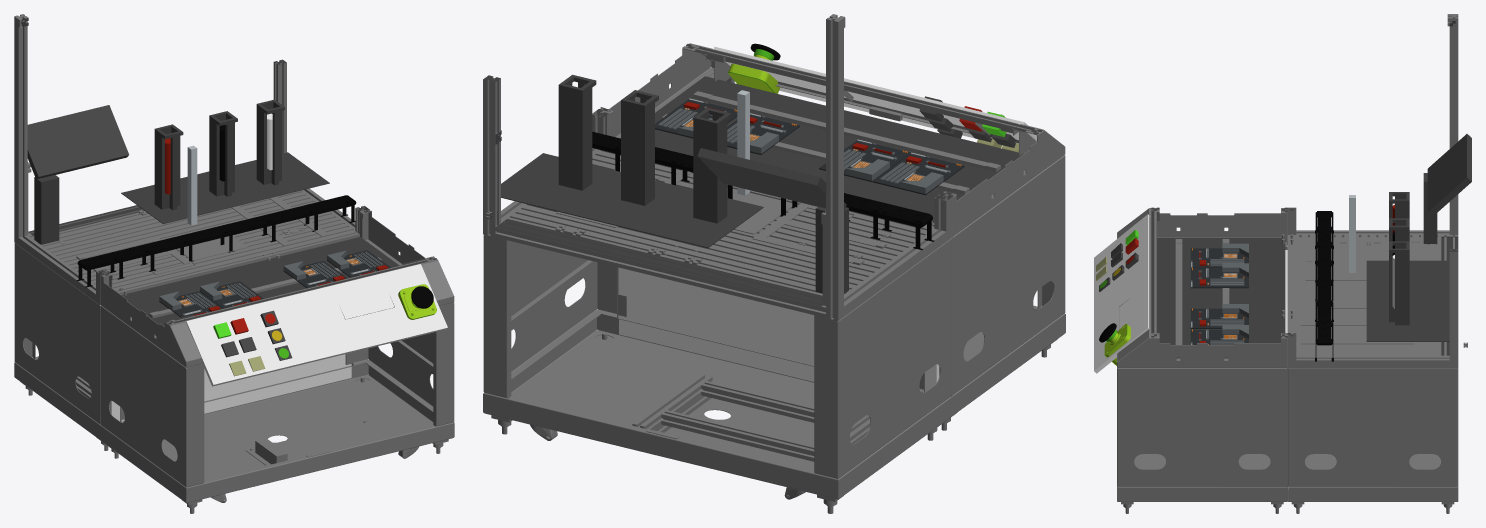
File: cajainicio.fbx
3 views of the same model, side by side, from view 1: azimuth 30°, elevation 25°; view 2: azimuth 150°, elevation 25°; view 3: azimuth 270°, elevation 25° (orthographic). The views are drawn at different scales.
Parts seen in each view (by area): view 1: jaula, Box003, Box021, Box002, Box023, Cylinder001_Material__0_0, Box001, Box022, Box026, Box025, Box020, Box024 (+7 smaller); view 2: jaula, Box001, Box002, Box023, Box026, Box025, Box021, Cylinder001_Material__0_0, Box022, Box003, Box020, Object_7 (+9 smaller); view 3: jaula, Box002, Box023, Box003, Cylinder001_Material__0_0, Box021, Box026, Object_009, Object_015, Object_014, Box020, Object_001 (+8 smaller).
Boxes of the visible parts, x1,y1,x2,y2 form: jaula: (14, 14, 454, 513); Box003: (186, 264, 447, 386); Box021: (27, 105, 129, 179); Box002: (121, 237, 399, 326); Box023: (121, 152, 329, 223); Cylinder001_Material__0_0: (76, 195, 356, 287); Box001: (109, 354, 351, 422); Box022: (154, 124, 183, 210); Box026: (256, 99, 284, 185); Box025: (209, 111, 237, 196); Box020: (34, 175, 59, 244); Box024: (187, 145, 197, 225); jaula: (483, 14, 1065, 513); Box001: (619, 267, 939, 392); Box002: (620, 76, 1023, 222); Box023: (501, 153, 763, 248); Box026: (558, 74, 596, 190); Box025: (621, 90, 658, 205); Box021: (697, 148, 846, 211); Cylinder001_Material__0_0: (592, 131, 934, 250); Box022: (693, 107, 731, 223); Box003: (713, 46, 1036, 143); Box020: (815, 206, 848, 293); Object_7: (880, 156, 950, 193); jaula: (1117, 14, 1467, 513); Box002: (1157, 238, 1285, 358); Box023: (1366, 260, 1449, 341); Box003: (1094, 214, 1149, 373); Cylinder001_Material__0_0: (1315, 211, 1333, 361); Box021: (1427, 134, 1471, 216); Box026: (1389, 241, 1409, 325); Object_009: (1190, 268, 1248, 288); Object_015: (1190, 308, 1248, 328); Object_014: (1191, 263, 1248, 285); Box020: (1423, 173, 1437, 244); Object_001: (1190, 248, 1248, 267).
Size of the model in its own units: 44.93 by 59.71 by 54.61.
